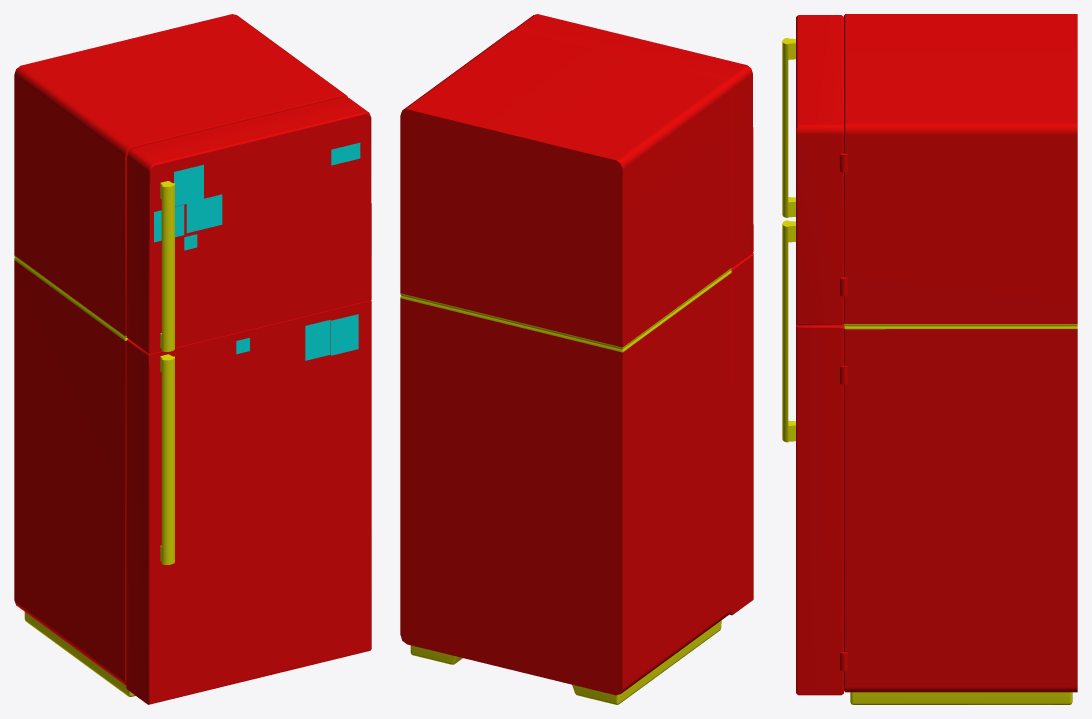
Rendered from ruifridge_grp.fbx.
The picture shows the model from 3 angles, left to right: view 1: azimuth 30°, elevation 25°; view 2: azimuth 150°, elevation 25°; view 3: azimuth 270°, elevation 25°; orthographic projection. The views are drawn at different scales.
Parts seen in each view (by area): view 1: ruifridge_maindoor, ruifridge_body, ruifridge_freezerdoor; view 2: ruifridge_body, ruifridge_freezerdoor, ruifridge_maindoor; view 3: ruifridge_body, ruifridge_maindoor, ruifridge_freezerdoor.
Part boxes in pixels (x1,y1,x2,y2): ruifridge_maindoor: [126, 300, 371, 704]; ruifridge_body: [14, 14, 347, 696]; ruifridge_freezerdoor: [126, 97, 371, 353]; ruifridge_body: [400, 29, 731, 704]; ruifridge_freezerdoor: [513, 14, 753, 267]; ruifridge_maindoor: [729, 253, 753, 615]; ruifridge_body: [844, 14, 1077, 704]; ruifridge_maindoor: [782, 220, 848, 695]; ruifridge_freezerdoor: [782, 15, 848, 325].
Bounding box in the file's own units: 73 × 171 × 77.96.
